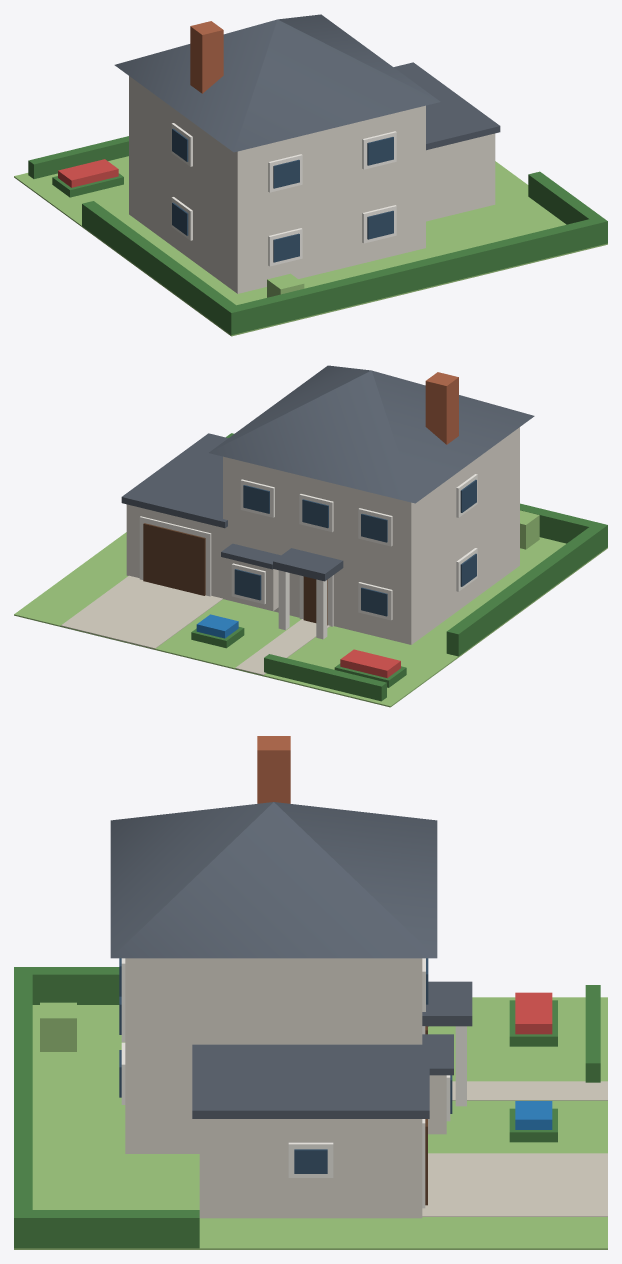
3 renders of one model, top to bottom at view 1: azimuth 30°, elevation 25°; view 2: azimuth 150°, elevation 25°; view 3: azimuth 270°, elevation 25°, orthographic. The views are drawn at different scales.
Visible parts, largest first — view 1: house, roof, hedge (×4), lawn, garage, garage_roof, window_glass (×4), chimney, window_frame (×4), flower_bed, flower_bed_edge, tree_spot; view 2: house, roof, lawn, hedge (×3), driveway, garage_roof, garage_door, window_glass (×5), window_frame (×5), garage, chimney, flower_bed (×2) (+10 smaller); view 3: lawn, roof, house, garage, garage_roof, hedge (×4), driveway, path, flower_bed (×2), chimney, porch_roof, flower_bed_edge (×2) (+6 smaller).
Boxes of the visible parts, <box> form: house: <box>129,76,425,293</box>; roof: <box>114,14,440,152</box>; hedge (×4): <box>28,136,607,335</box>; lawn: <box>14,156,607,336</box>; garage: <box>426,133,495,221</box>; garage_roof: <box>393,62,500,150</box>; window_glass (×4): <box>273,137,393,262</box>; chimney: <box>190,21,223,93</box>; window_frame (×4): <box>268,131,396,266</box>; flower_bed: <box>58,159,118,187</box>; flower_bed_edge: <box>52,173,123,197</box>; tree_spot: <box>267,273,304,297</box>; house: <box>223,427,519,644</box>; roof: <box>209,365,534,503</box>; lawn: <box>14,532,607,707</box>; hedge (×3): <box>264,503,607,701</box>; driveway: <box>61,575,222,649</box>; garage_roof: <box>121,433,228,528</box>; garage_door: <box>143,523,205,595</box>; window_glass (×5): <box>234,485,387,616</box>; window_frame (×5): <box>231,479,392,620</box>; garage: <box>126,504,222,598</box>; chimney: <box>425,372,458,444</box>; flower_bed (×2): <box>196,614,400,678</box>; lawn: <box>14,997,607,1249</box>; roof: <box>110,802,437,958</box>; house: <box>125,958,422,1153</box>; garage: <box>199,1119,422,1218</box>; garage_roof: <box>192,1041,429,1118</box>; hedge (×4): <box>14,967,600,1248</box>; driveway: <box>422,1153,607,1216</box>; path: <box>452,1081,607,1100</box>; flower_bed (×2): <box>515,992,552,1129</box>; chimney: <box>257,736,290,803</box>; porch_roof: <box>422,981,472,1026</box>; flower_bed_edge (×2): <box>509,1000,557,1142</box>.
Size of the model in its own units: 16 by 9 by 16.
